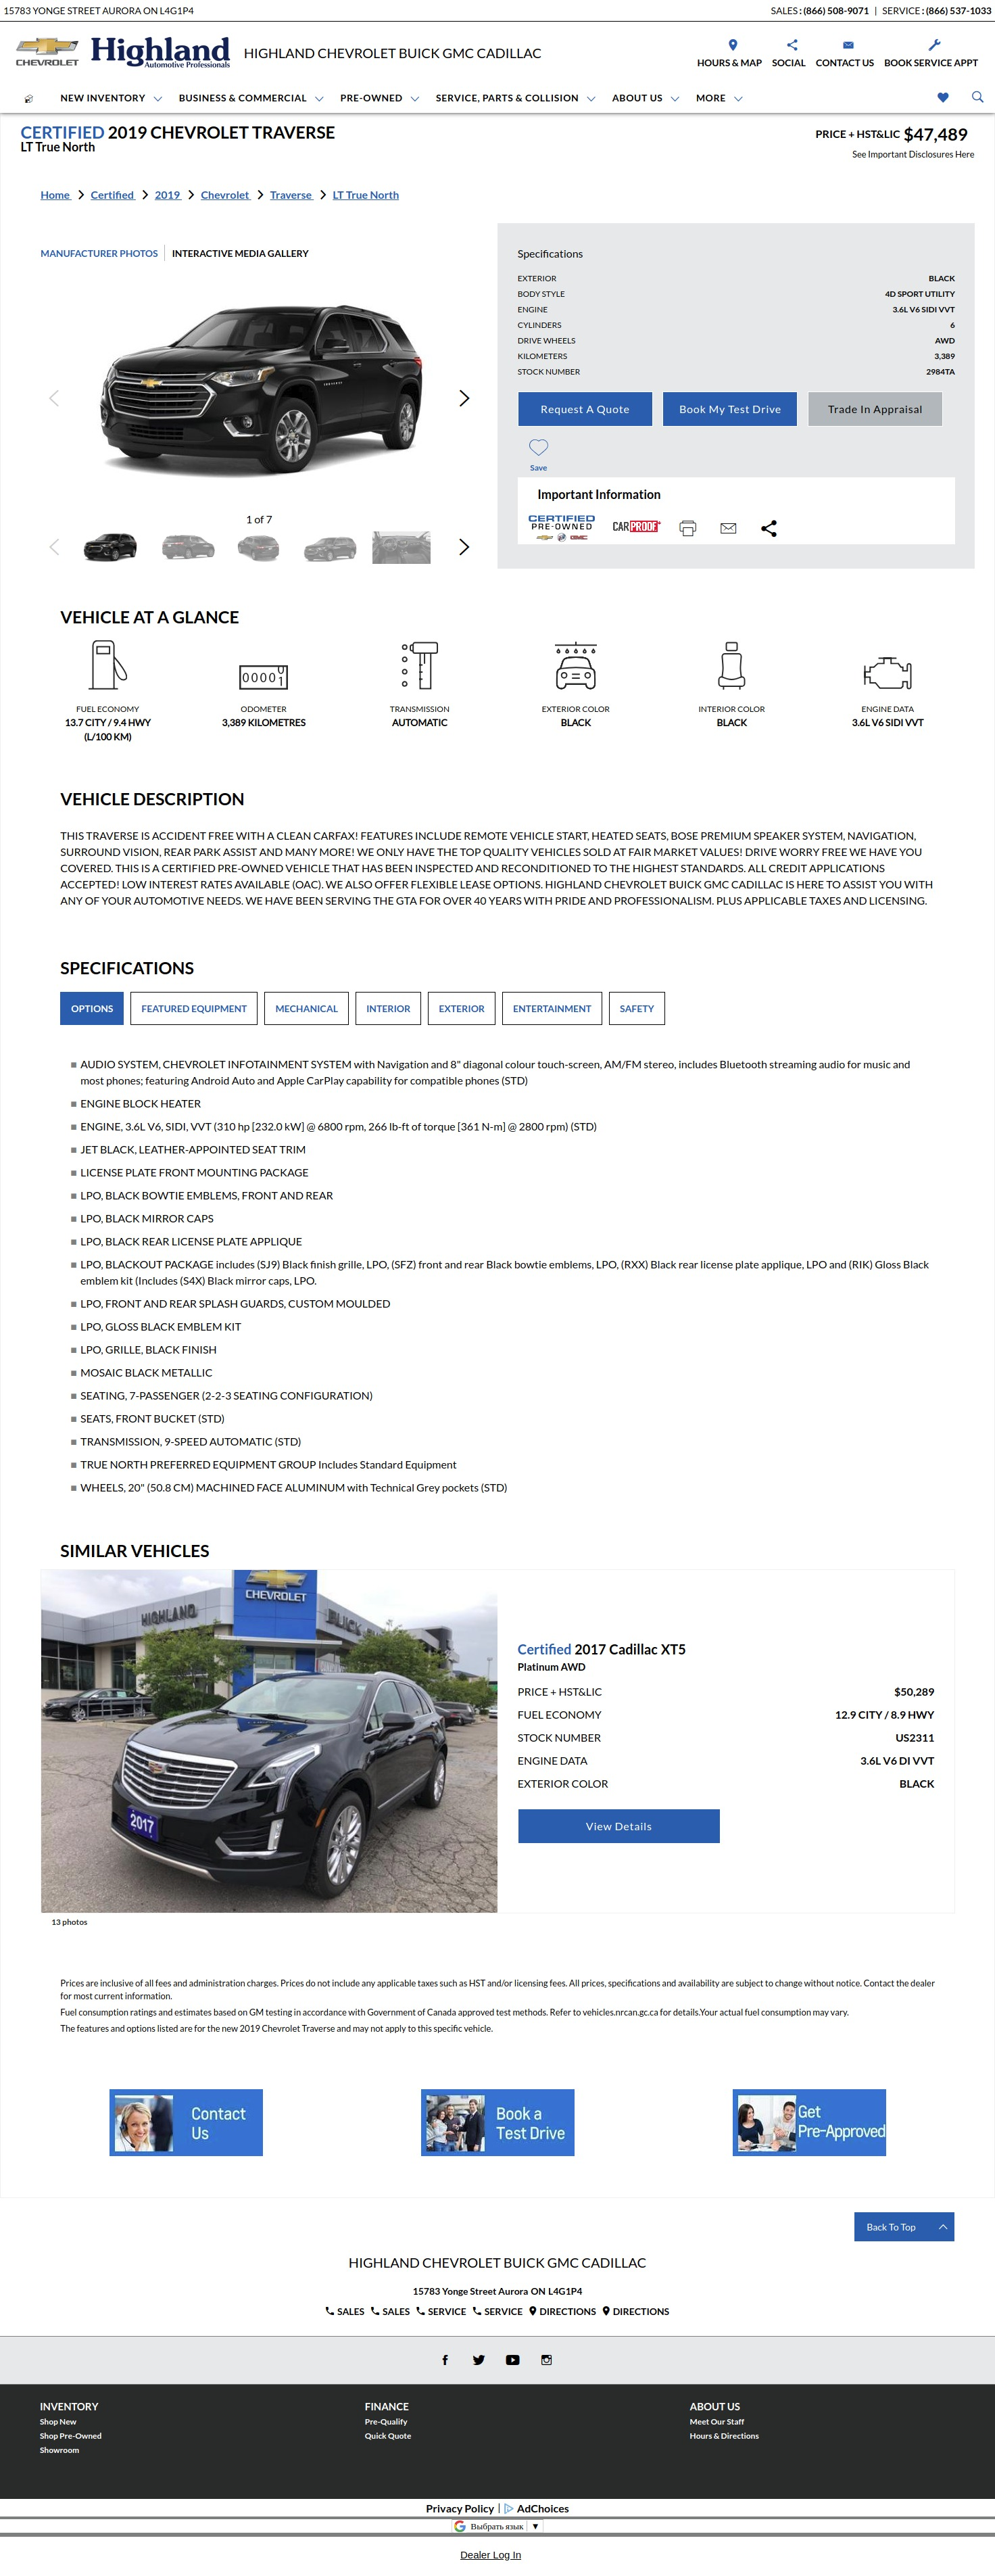car: (460, 539, 470, 555)
